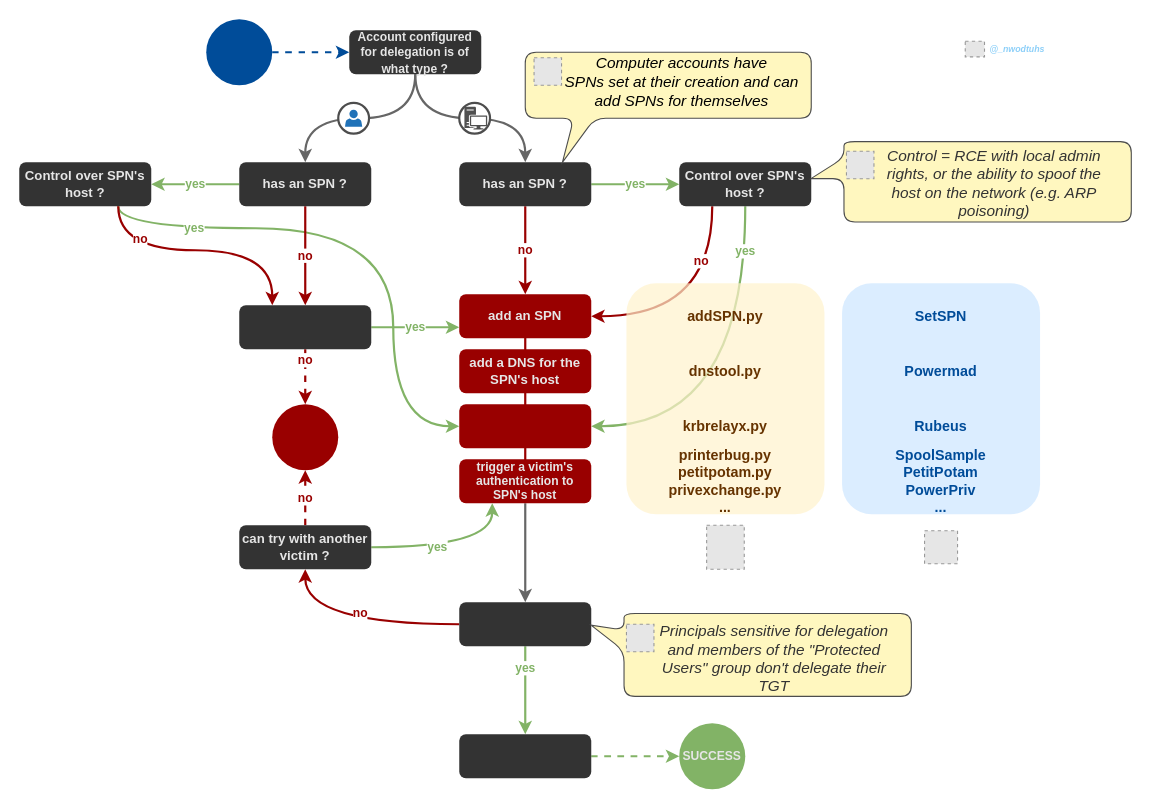
Image size: 1151x807. Some labels were removed from this diagram. Grey dashed boxes stand in for pictures. The box of each missing label's shape, as (x1, y1, x2, y2) in pixels:
Control over an account that can add an SPN to the user ?: (239, 305, 371, 349)
Extract and use the TGT with pass-the-ticket: (459, 734, 591, 778)
FAIL: (272, 404, 338, 470)
START: (206, 19, 272, 85)
start a Kerberos listener: (459, 404, 591, 448)
victim delegated its TGT ?: (459, 602, 591, 646)
